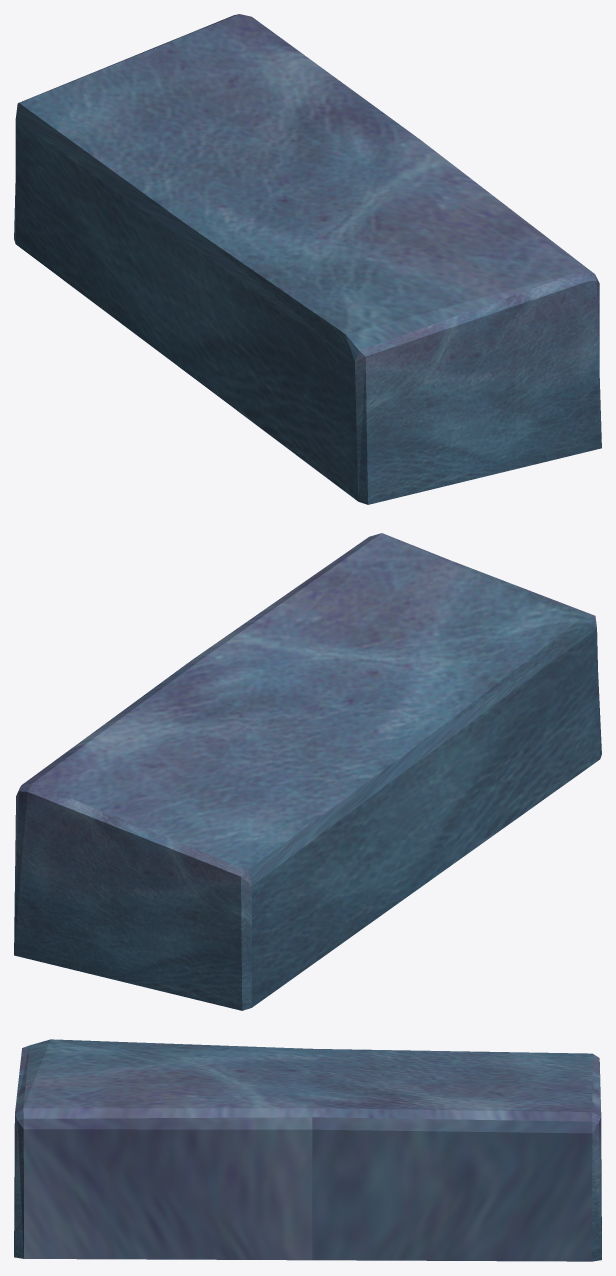
The model's file is Sofa01.fbx.
3 views of the same model, one above another, from view 1: azimuth 30°, elevation 25°; view 2: azimuth 150°, elevation 25°; view 3: azimuth 270°, elevation 25° (orthographic). The views are drawn at different scales.
Visible parts, largest first — view 1: Empty_Mesh; view 2: Empty_Mesh; view 3: Empty_Mesh.
Boxes of the visible parts, left/top/right/bottom form: Empty_Mesh: left=14, top=14, right=601, bottom=504; Empty_Mesh: left=14, top=533, right=601, bottom=1010; Empty_Mesh: left=14, top=1039, right=601, bottom=1261.
Bounding box in the file's own units: 70.93 × 48.8 × 179.
